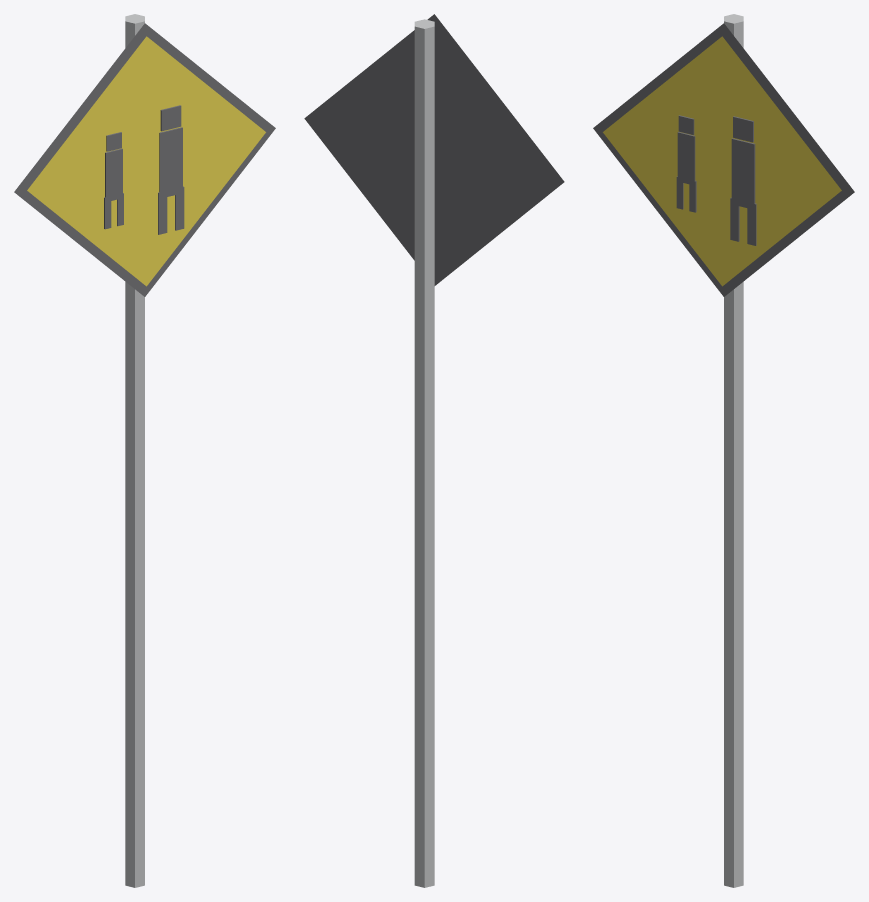
Rendered from HK_Sign_School.glb.
3 renders of one model, left to right at view 1: azimuth 30°, elevation 25°; view 2: azimuth 150°, elevation 25°; view 3: azimuth 330°, elevation 25°, orthographic.
Visible parts, largest first — view 1: HK_Sign_School; view 2: HK_Sign_School; view 3: HK_Sign_School.
Part boxes in pixels (x1,y1,x2,y2): HK_Sign_School: (14,14,275,887); HK_Sign_School: (304,14,564,887); HK_Sign_School: (593,14,854,887).
Bounding box in the file's own units: 0.92 × 2.91 × 0.1128.
